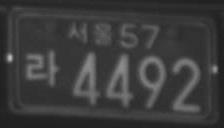2: (169, 55, 203, 115)
4: (71, 50, 103, 107), (104, 51, 135, 109)
5: (118, 21, 140, 50)
7: (141, 22, 161, 50)
9: (135, 53, 168, 110)
라: (23, 47, 59, 88)
서울_O: (66, 19, 113, 48)
